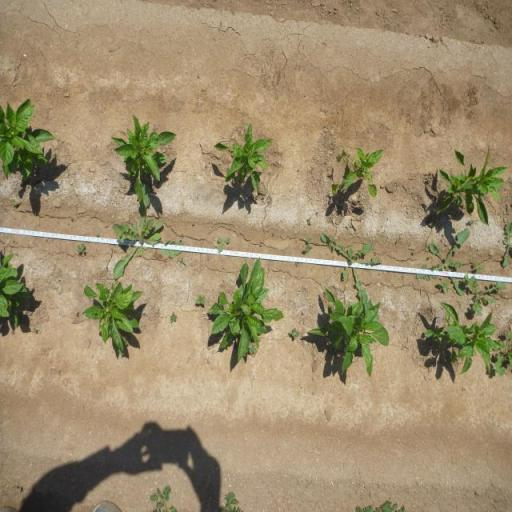plant: (205, 256, 287, 365), (308, 298, 385, 378), (108, 112, 180, 190), (434, 144, 508, 219), (0, 94, 61, 183), (423, 306, 495, 379), (212, 120, 274, 193), (82, 279, 146, 349), (329, 146, 386, 203), (0, 247, 32, 327)
weed: (111, 194, 186, 280), (322, 231, 383, 293), (416, 226, 470, 296), (469, 276, 508, 315), (496, 330, 512, 382), (501, 222, 512, 268), (217, 236, 232, 253), (302, 237, 315, 256), (288, 326, 302, 341), (194, 293, 206, 308), (439, 280, 451, 293), (76, 242, 86, 256), (474, 262, 485, 272), (248, 343, 257, 355), (462, 273, 470, 286), (170, 311, 178, 323), (177, 256, 186, 266), (305, 216, 313, 226), (468, 219, 475, 226), (426, 175, 432, 183), (12, 200, 18, 207), (34, 326, 38, 334)
